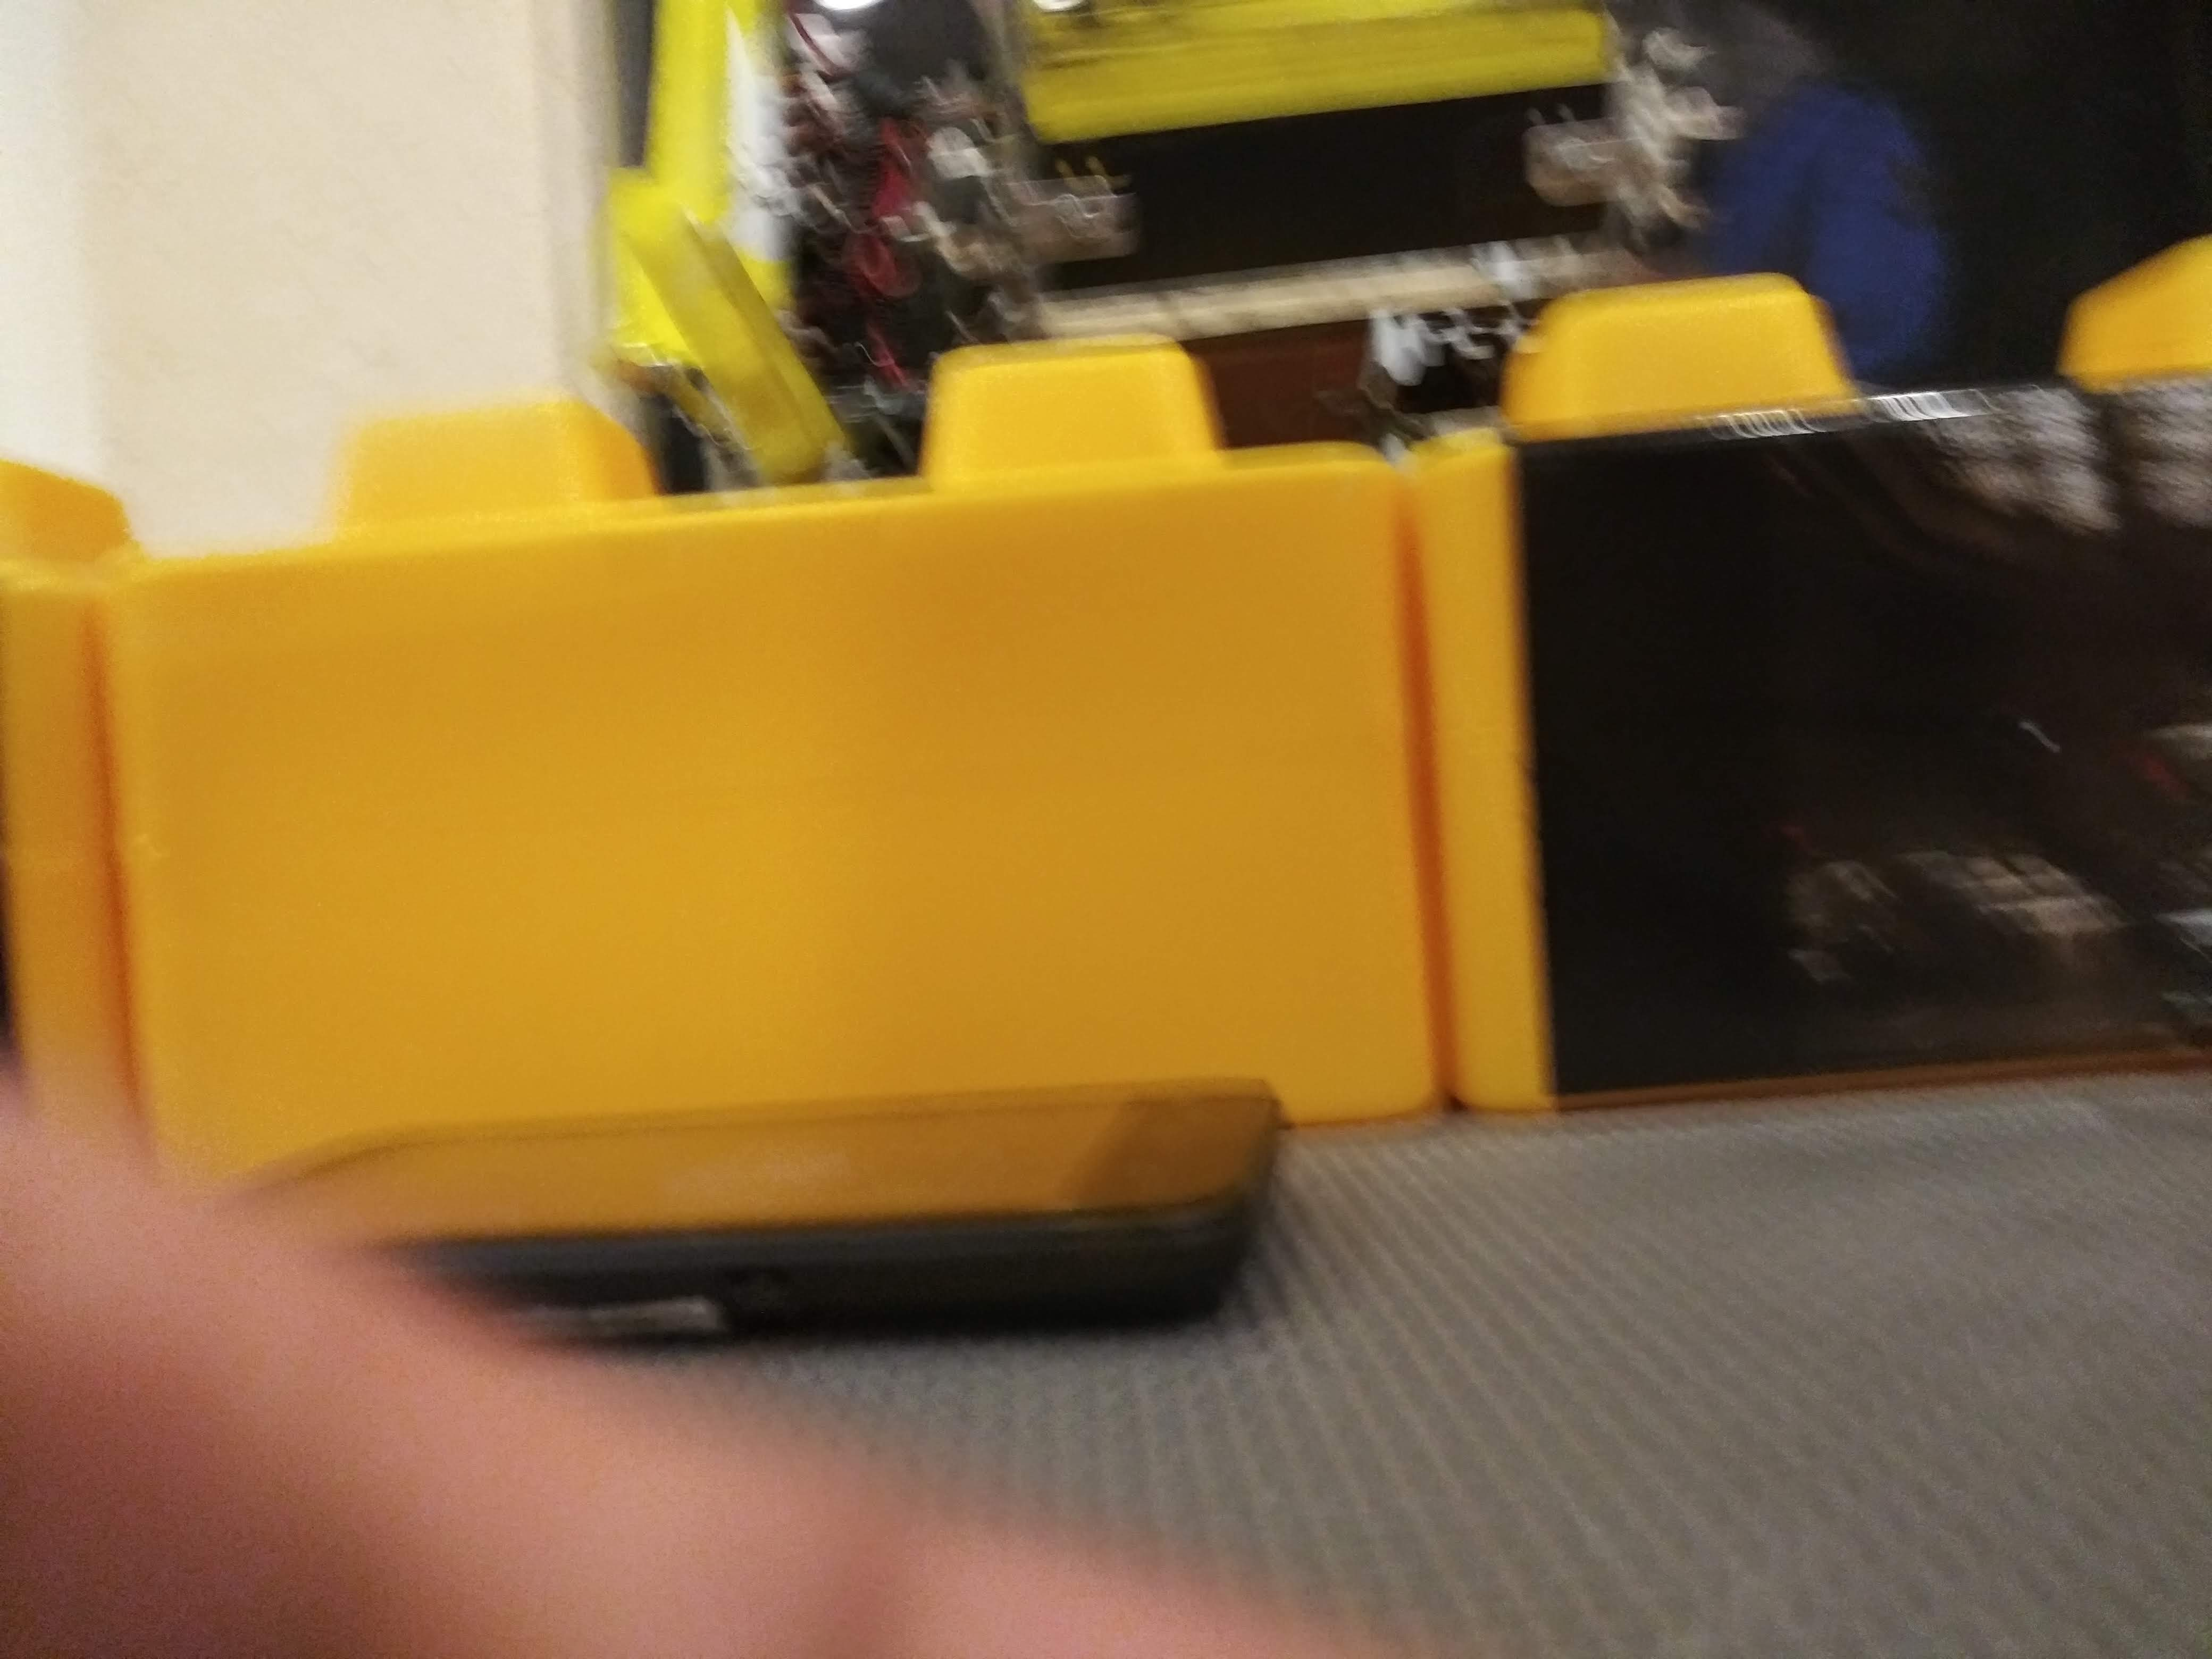skystone: (1446, 355, 2198, 1053)
stone: (148, 516, 1383, 1058)
